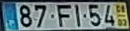4: (103, 4, 115, 27)
5: (88, 4, 101, 27)
7: (33, 4, 47, 29)
8: (18, 3, 32, 28)
F: (56, 3, 72, 28)
I: (73, 3, 81, 28)
